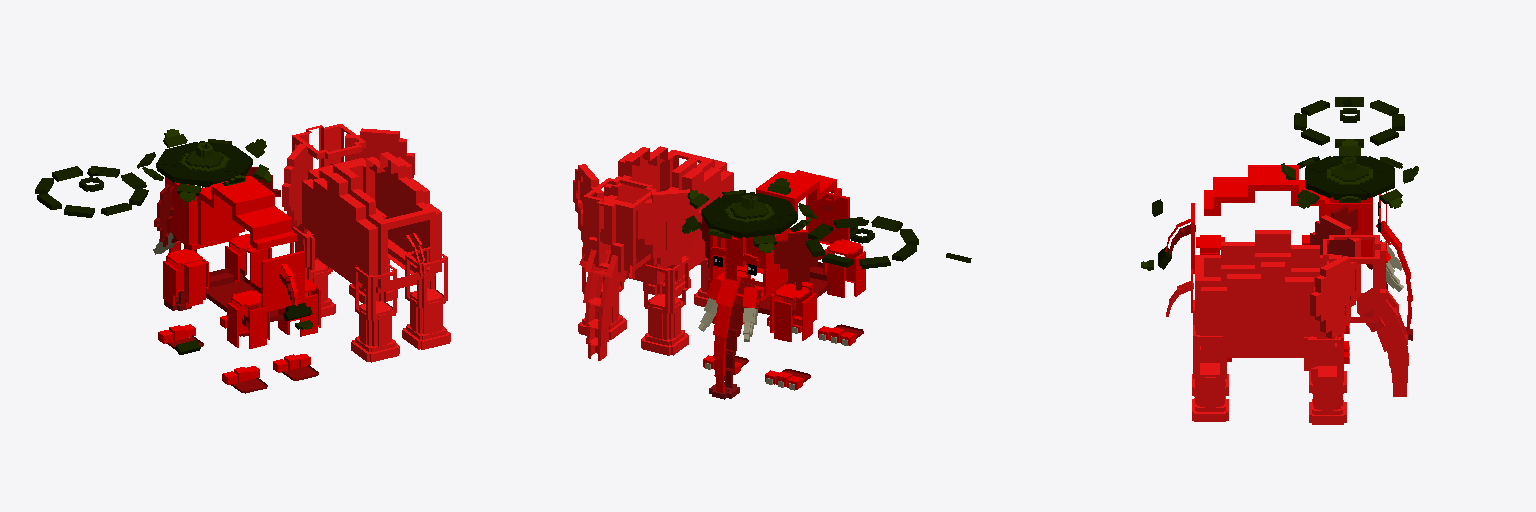
3 renders of one model, left to right at view 1: azimuth 30°, elevation 25°; view 2: azimuth 150°, elevation 25°; view 3: azimuth 270°, elevation 25°, orthographic.
Parts seen in each view (by area): view 1: Cube0081, Cube0041, Cube0141, Cube0071, Cube0061, Cube0051, Cube0021; view 2: Cube0081, Cube0041, Cube0141, Cube0061, Cube0071, Cube0051, Cube0301, Cube0021; view 3: Cube0081, Cube0041, Cube0071, Cube0061, Cube0051, Cube0021, Cube0141.
Boxes of the visible parts, box(x1,y1,x2,y2) form: Cube0081: box(282, 124, 450, 362); Cube0041: box(158, 176, 320, 384); Cube0141: box(154, 166, 318, 393); Cube0071: box(156, 141, 312, 321); Cube0061: box(35, 166, 200, 354); Cube0051: box(140, 134, 312, 329); Cube0021: box(137, 129, 312, 329); Cube0081: box(573, 146, 733, 360); Cube0041: box(703, 170, 865, 392); Cube0141: box(699, 204, 863, 385); Cube0061: box(805, 216, 971, 268); Cube0071: box(701, 192, 856, 237); Cube0051: box(685, 183, 813, 246); Cube0301: box(698, 298, 848, 390); Cube0021: box(682, 178, 857, 252); Cube0081: box(1166, 215, 1408, 424); Cube0041: box(1165, 165, 1412, 363); Cube0071: box(1158, 156, 1394, 269); Cube0061: box(1152, 97, 1404, 216); Cube0051: box(1147, 146, 1413, 270); Cube0021: box(1141, 139, 1418, 268); Cube0141: box(1169, 206, 1387, 289).
Size of the model in its own units: 21.35 by 10.86 by 14.54.
Materials: 9 (1 with a texture image).